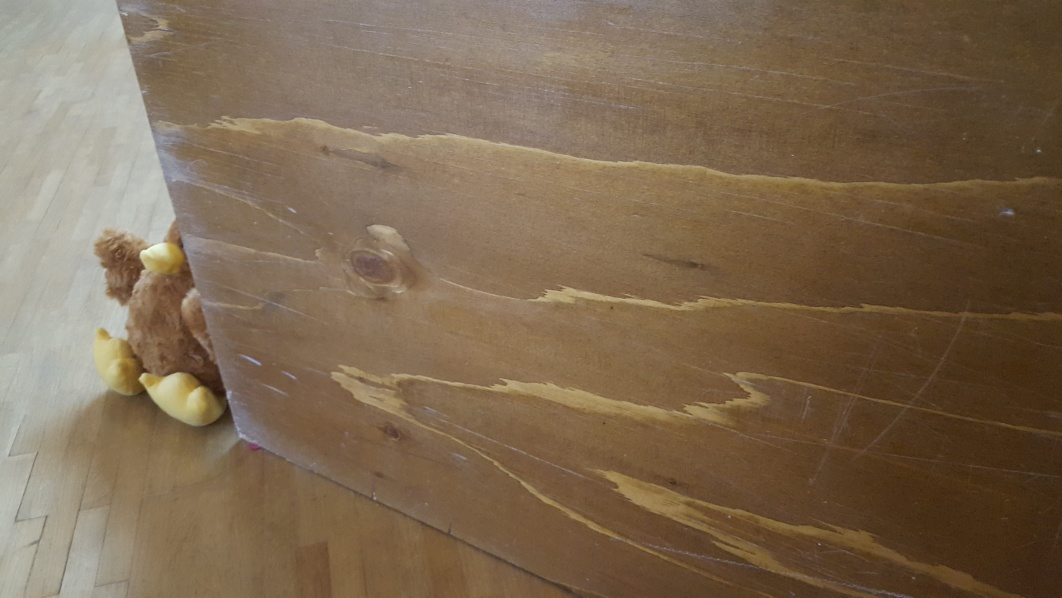chicken: (86, 214, 229, 434)
